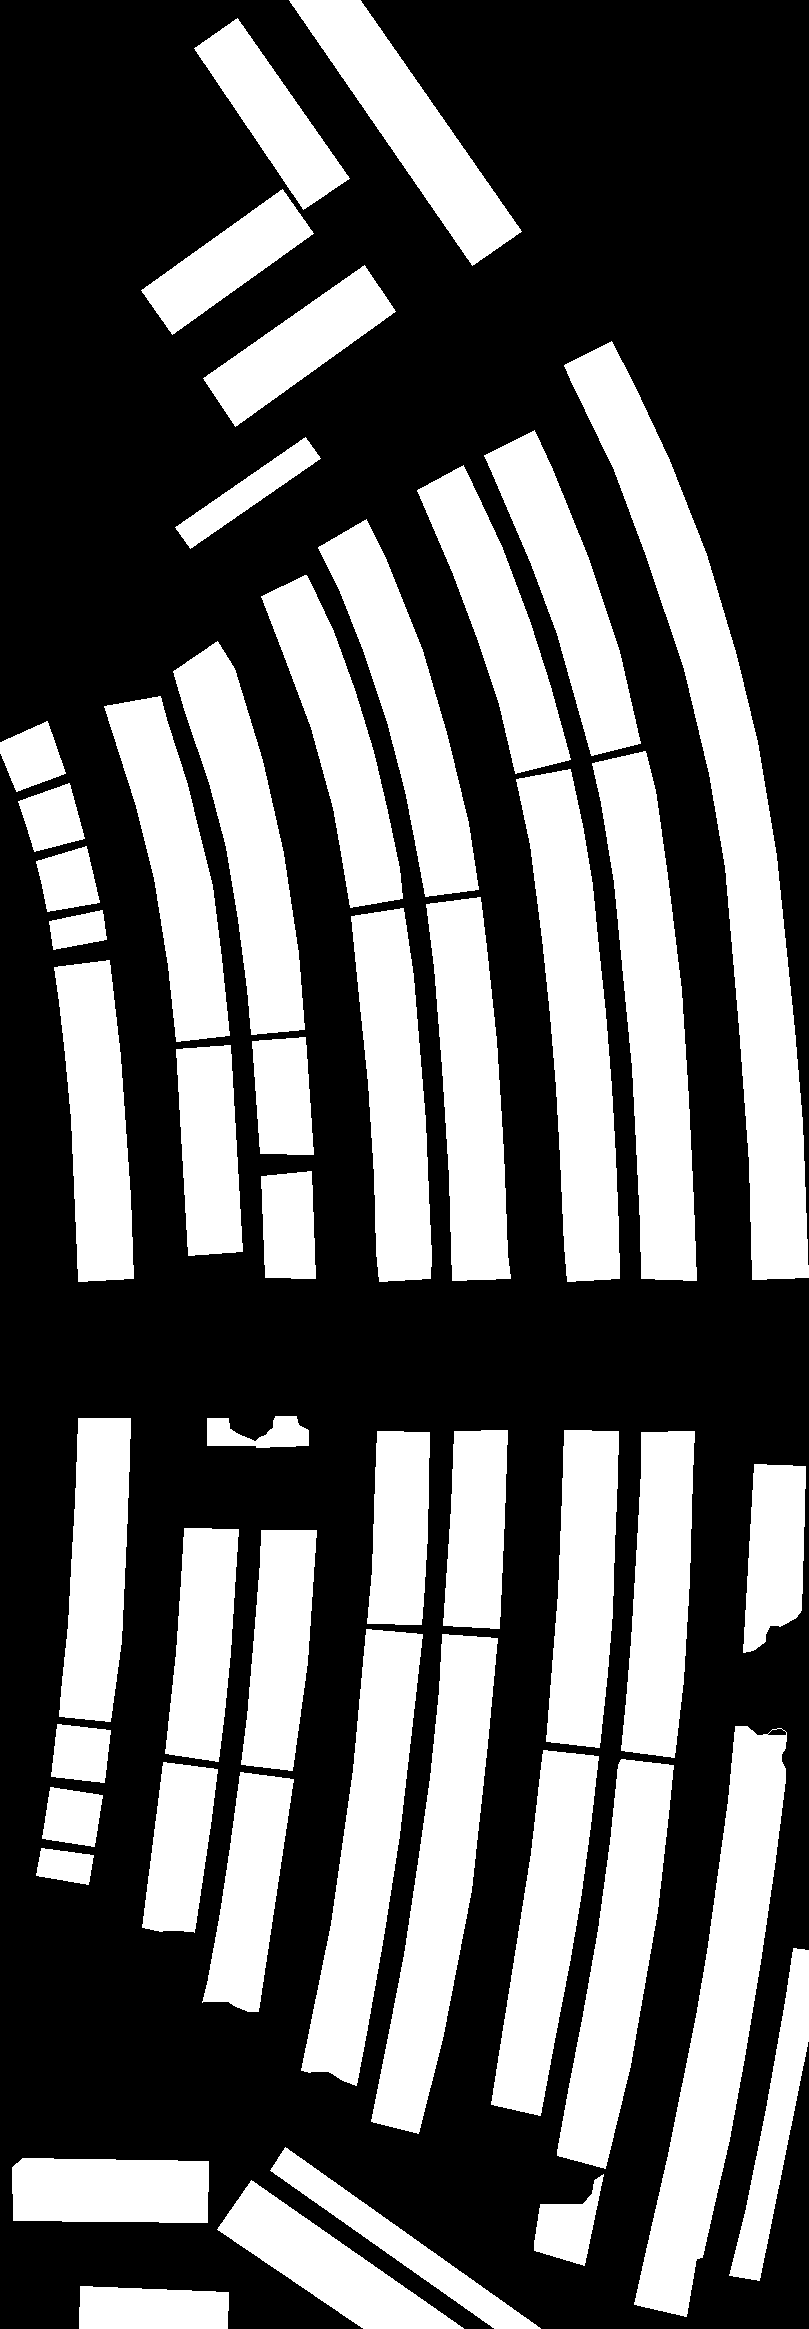parkingspot: (564, 342, 808, 1279), (634, 1726, 787, 2316), (371, 1634, 497, 2133), (289, 0, 521, 264), (318, 518, 478, 896), (592, 752, 696, 1280), (301, 1629, 422, 2085), (517, 769, 619, 1280), (174, 642, 304, 1034), (484, 429, 640, 755), (270, 2146, 540, 2328), (557, 1759, 672, 2169), (417, 465, 570, 772), (261, 575, 402, 908), (104, 697, 229, 1041), (491, 1750, 598, 2115), (217, 2180, 465, 2329), (426, 897, 511, 1280), (203, 264, 395, 426), (350, 908, 430, 1280), (194, 18, 349, 209), (729, 1947, 809, 2280), (53, 960, 134, 1280), (141, 189, 313, 334), (620, 1430, 695, 1757), (546, 1430, 618, 1747), (202, 1772, 292, 2011), (59, 1418, 131, 1721), (240, 1530, 316, 1771), (165, 1528, 238, 1762), (175, 437, 321, 548), (177, 1046, 242, 1255), (442, 1430, 508, 1628), (143, 1762, 217, 1932), (12, 2158, 208, 2222), (367, 1430, 429, 1623), (744, 1465, 805, 1652), (252, 1037, 313, 1154), (79, 2286, 229, 2329), (534, 2175, 603, 2265), (261, 1170, 315, 1277), (0, 720, 65, 792), (18, 783, 85, 851), (36, 847, 99, 911), (42, 1787, 102, 1846), (50, 1724, 110, 1782), (49, 911, 105, 949), (36, 1848, 94, 1883), (255, 1416, 307, 1447), (206, 1418, 257, 1445)
